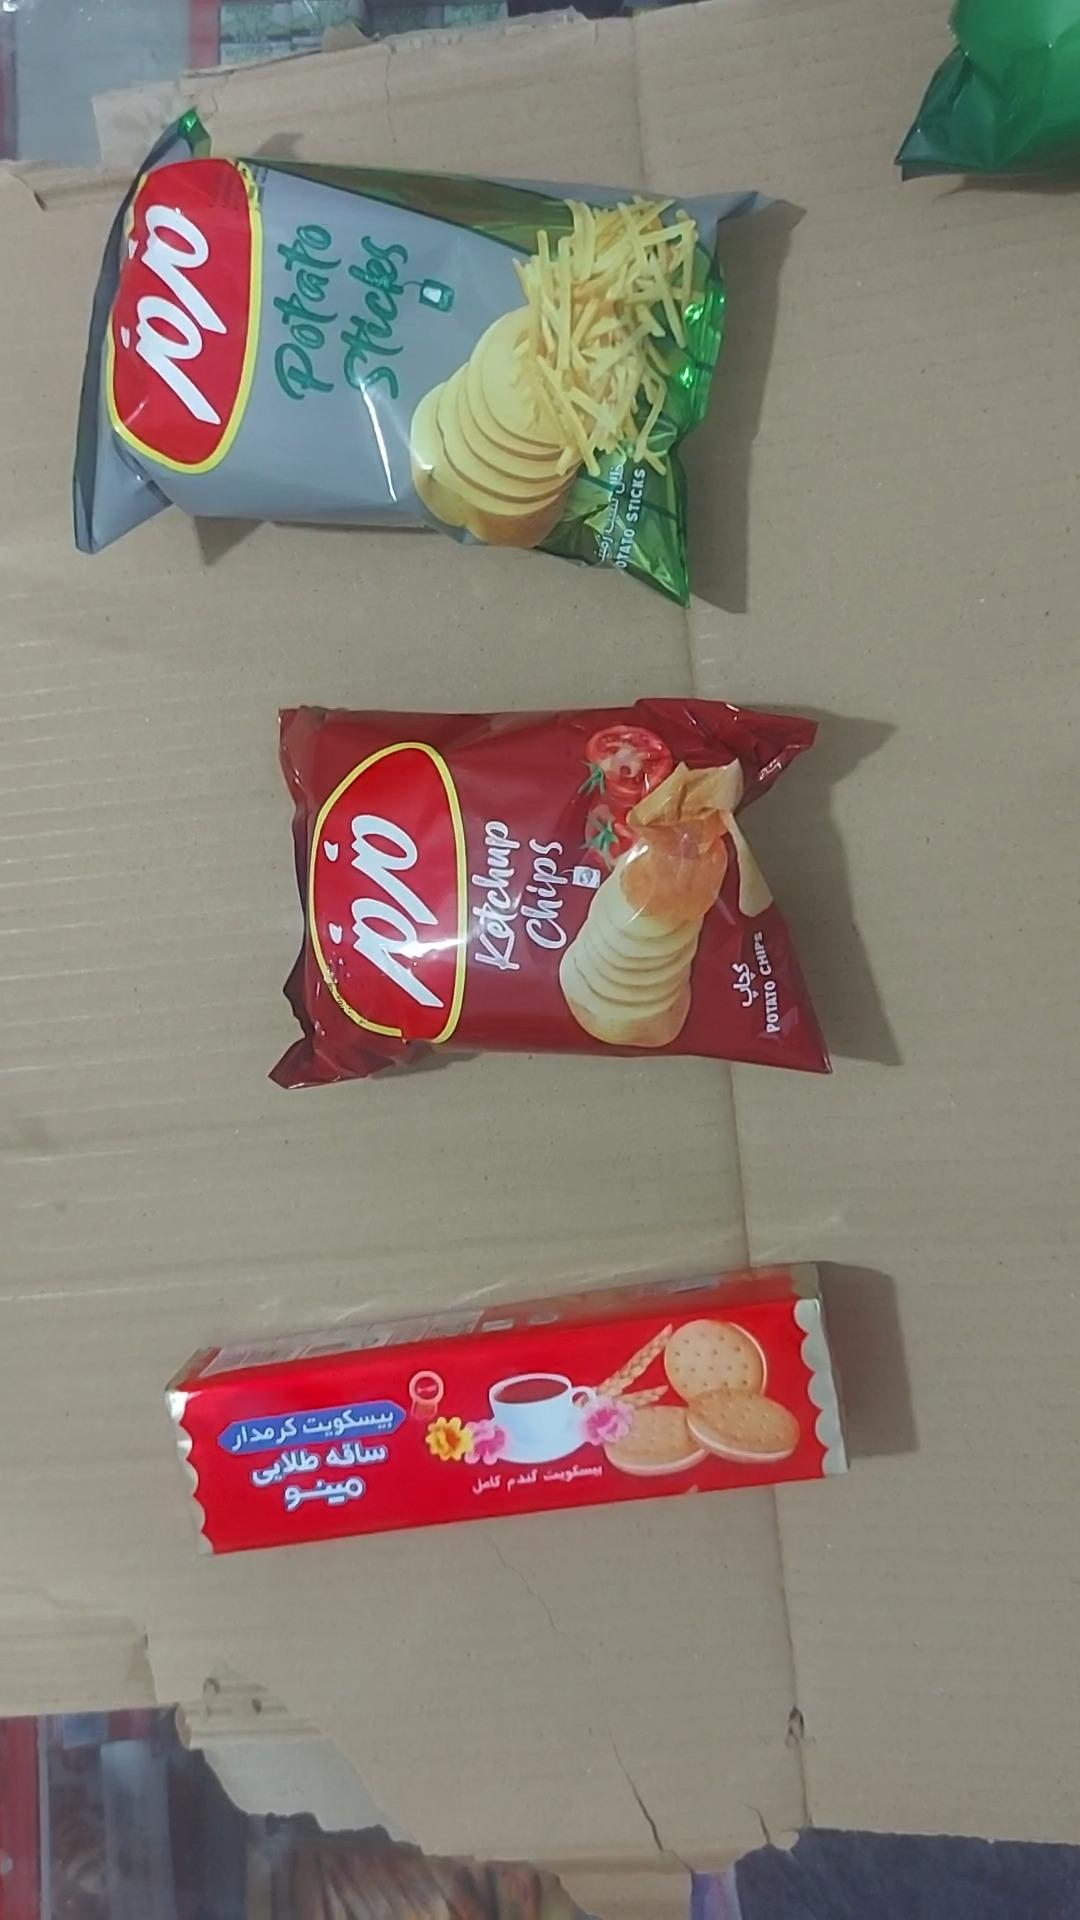Maz Maz ketchup chips: (268, 698, 833, 1092)
Maz Maz potato sticks: (73, 109, 757, 608)
Minoo cream biscuit: (167, 1263, 849, 1557)
